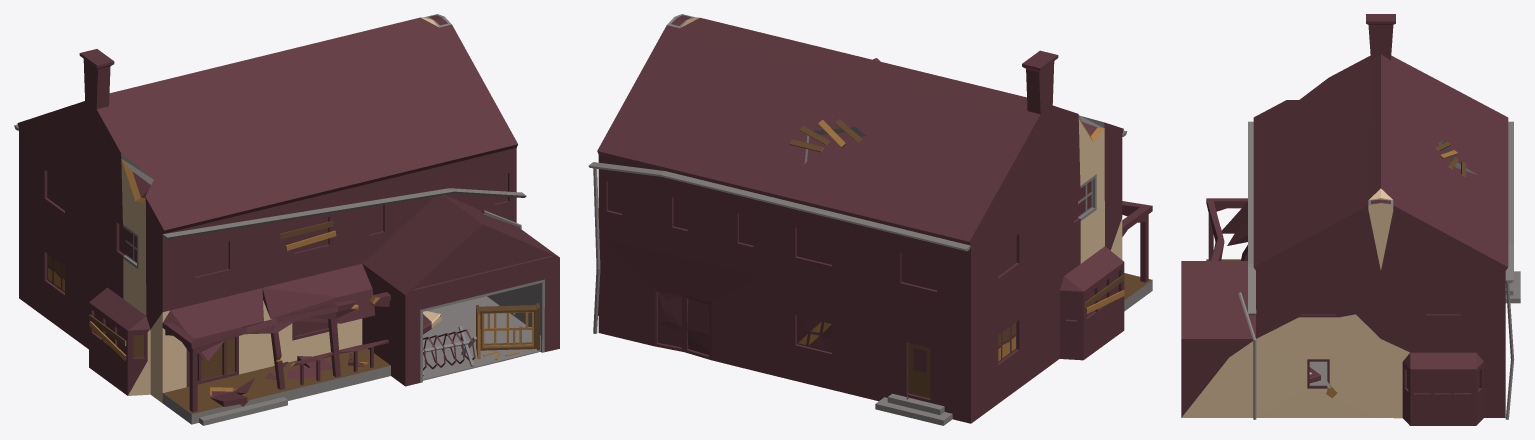
The model's file is building-house-family-large-apocalypse.fbx.
The picture shows the model from 3 angles, left to right: view 1: azimuth 30°, elevation 25°; view 2: azimuth 150°, elevation 25°; view 3: azimuth 270°, elevation 25°; orthographic projection. The views are drawn at different scales.
Visible parts, largest first — view 1: building-house-family-large-apocalypse; view 2: building-house-family-large-apocalypse; view 3: building-house-family-large-apocalypse.
Part boxes in pixels (box(x1,y1,x2,y2)): building-house-family-large-apocalypse: box(14, 14, 559, 425); building-house-family-large-apocalypse: box(588, 14, 1152, 425); building-house-family-large-apocalypse: box(1181, 14, 1520, 425).
Size of the model in its own units: 15.74 by 11.2 by 13.6.
